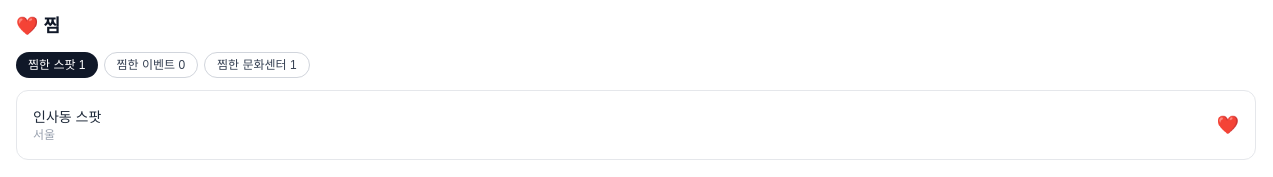
Test: FavoritesView › 문화센터 탭은 emart_class_id 기준으로 걸러지고 강좌명/지점명을 보여준다
Expected: the text "인사동 스팟" is shown, x1=33 y1=107 x2=101 y2=127
Click the button "찜한 문화센터 1".
click(257, 65)  # box x1=204 y1=52 x2=310 y2=78
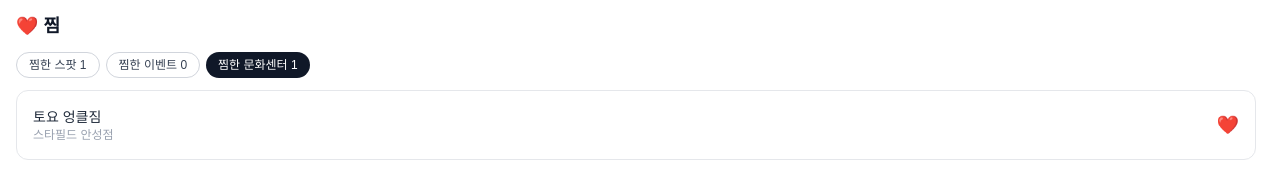
Now the text "토요 엉클짐" is shown, box x1=33 y1=109 x2=101 y2=125
Now the text "스타필드 안성점" is shown, box x1=33 y1=127 x2=114 y2=143
Now the text "인사동 스팟" is gone
